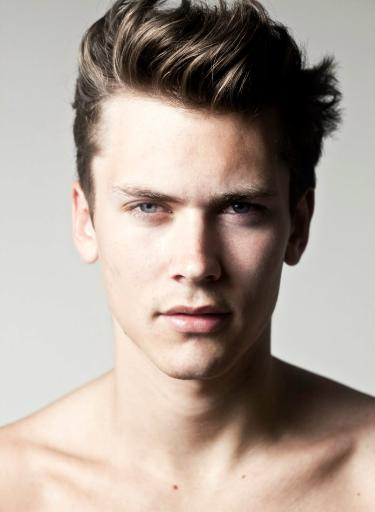left_eye: (217, 199, 272, 222)
left_lip_corner: (222, 304, 239, 328)
right_eye: (121, 199, 175, 220)
right_lip_corner: (151, 305, 170, 326)
